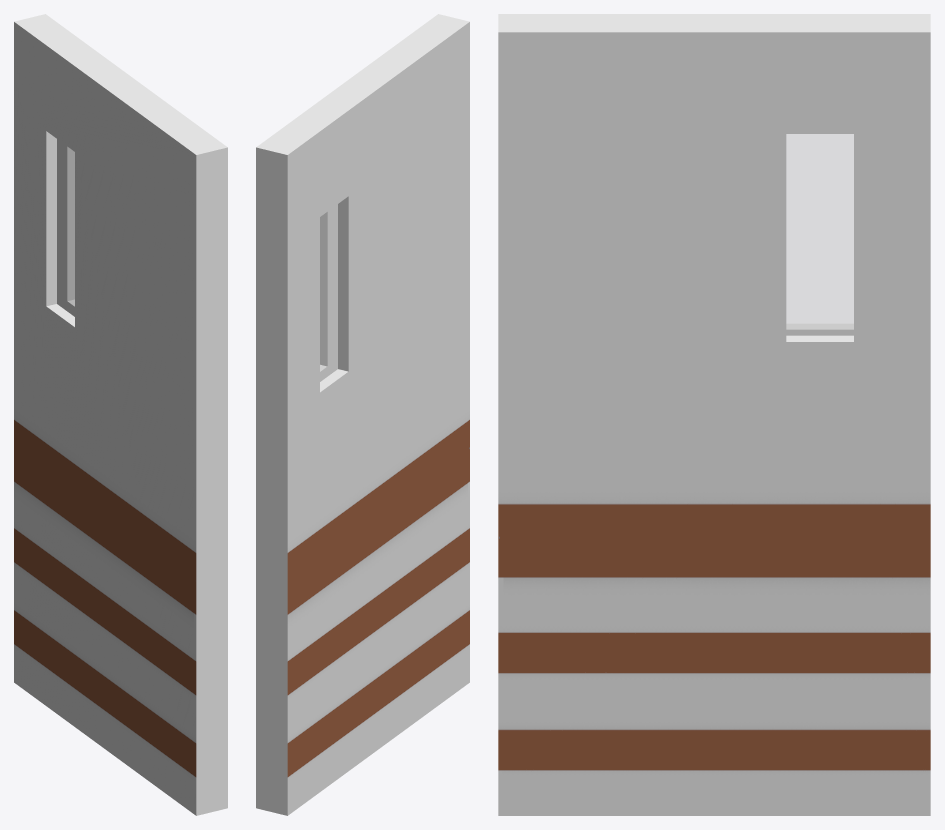
Rendered from Door.fbx.
The picture shows the model from 3 angles, left to right: view 1: azimuth 30°, elevation 25°; view 2: azimuth 150°, elevation 25°; view 3: azimuth 270°, elevation 25°; orthographic projection. The views are drawn at different scales.
Parts seen in each view (by area): view 1: glass; view 2: glass; view 3: glass.
Boxes of the visible parts, x1,y1,x2,y2 form: glass: [14, 14, 227, 815]; glass: [256, 14, 469, 815]; glass: [498, 14, 930, 815].
Size of the model in its own units: 0.1 by 2 by 1.
